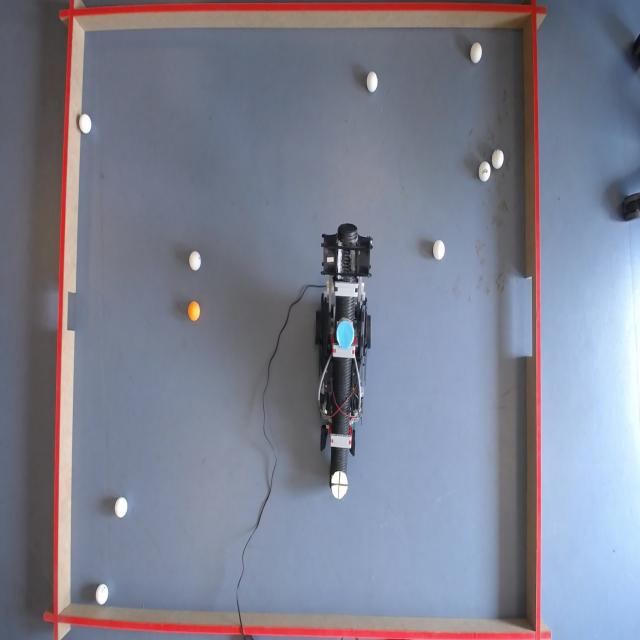orange: (187, 303, 201, 323)
robot: (320, 228, 378, 501)
robot-front: (331, 469, 348, 502)
robot-rear: (338, 319, 357, 348)
white: (95, 581, 110, 605), (188, 248, 202, 273), (114, 496, 128, 520), (79, 112, 92, 134), (432, 240, 446, 260), (492, 148, 505, 169), (366, 72, 378, 93), (470, 44, 482, 64), (480, 163, 492, 182)
